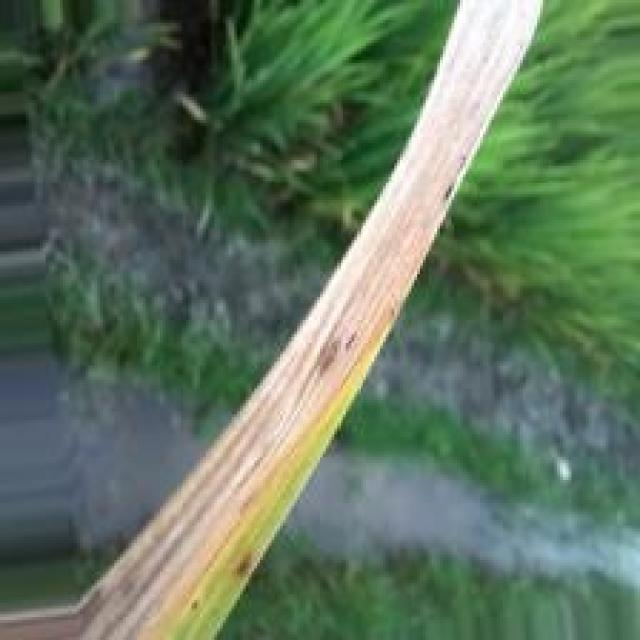Leaf_Scald: (0, 0, 545, 637)
